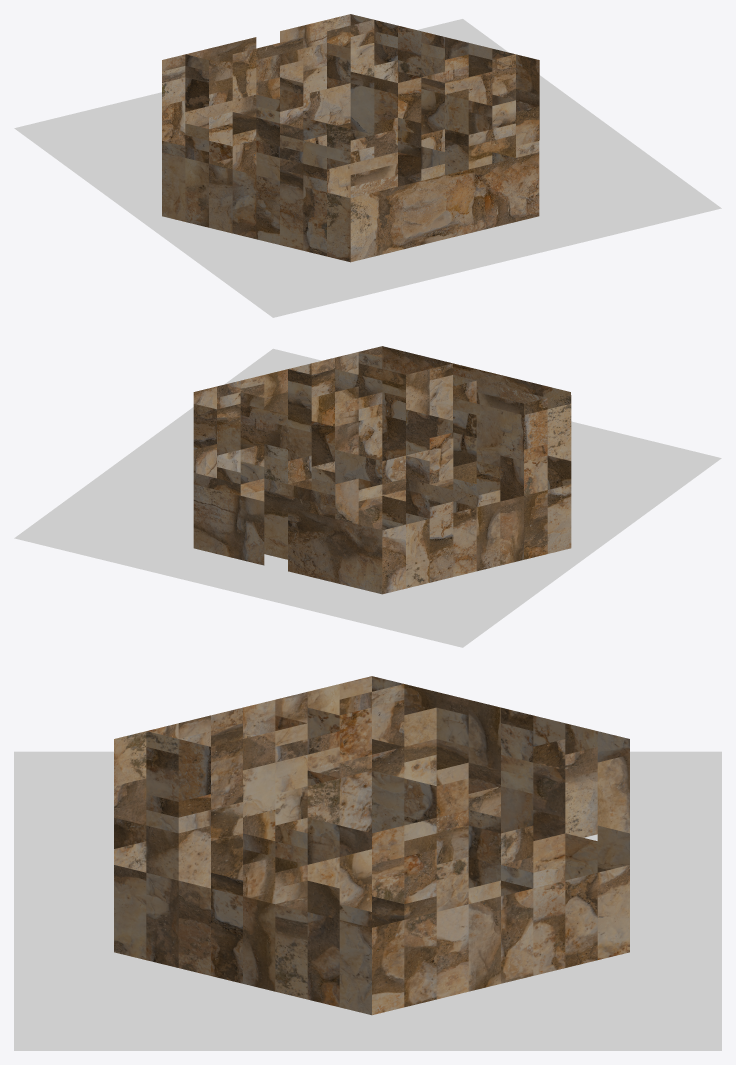
File: maze_level_2.glb
The picture shows the model from 3 angles, top to bottom: view 1: azimuth 30°, elevation 25°; view 2: azimuth 150°, elevation 25°; view 3: azimuth 270°, elevation 25°; orthographic projection. The views are drawn at different scales.
Visible parts, largest first — view 1: Curve.062, Plane; view 2: Curve.062, Plane; view 3: Curve.062, Plane.
Boxes of the visible parts, x1,y1,x2,y2 form: Curve.062: (162,14,539,262); Plane: (14,19,721,317); Curve.062: (193,346,571,594); Plane: (14,348,721,647); Curve.062: (114,676,629,1015); Plane: (14,751,721,1050).
Bounding box in the file's own units: 37.12 × 5.14 × 37.12.
Materials: 1 (1 with a texture image).
